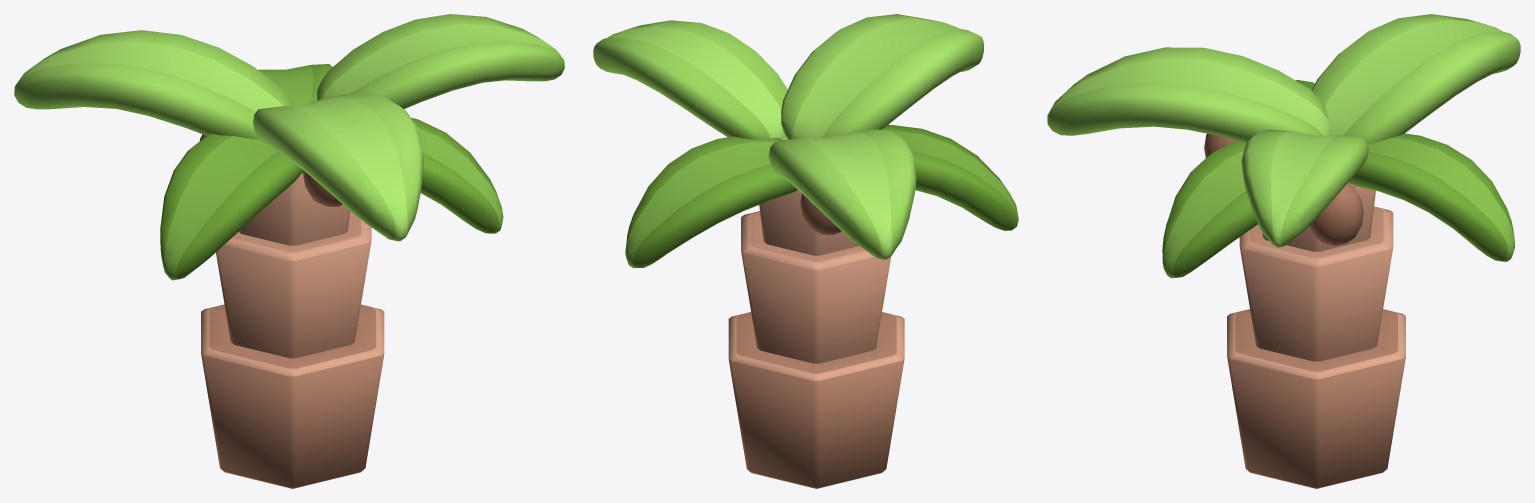
Rendered from palm_1.fbx.
3 views of the same model, side by side, from view 1: azimuth 30°, elevation 25°; view 2: azimuth 150°, elevation 25°; view 3: azimuth 270°, elevation 25° (orthographic). The views are drawn at different scales.
Visible parts, largest first — view 1: palm_1, coconuts; view 2: palm_1, coconuts; view 3: palm_1, coconuts.
Boxes of the visible parts, x1,y1,x2,y2 form: palm_1: [14, 14, 564, 488]; coconuts: [199, 134, 342, 206]; palm_1: [593, 14, 1018, 488]; coconuts: [800, 124, 888, 234]; palm_1: [1047, 14, 1520, 488]; coconuts: [1204, 133, 1363, 246].
Bounding box in the file's own units: 306 × 265 × 299.
Materials: 1 (1 with a texture image).
